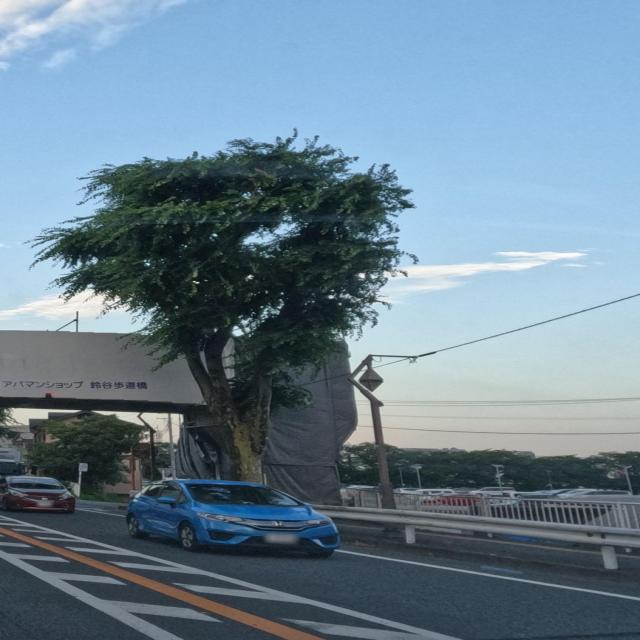zelkova: (19, 126, 422, 482)
